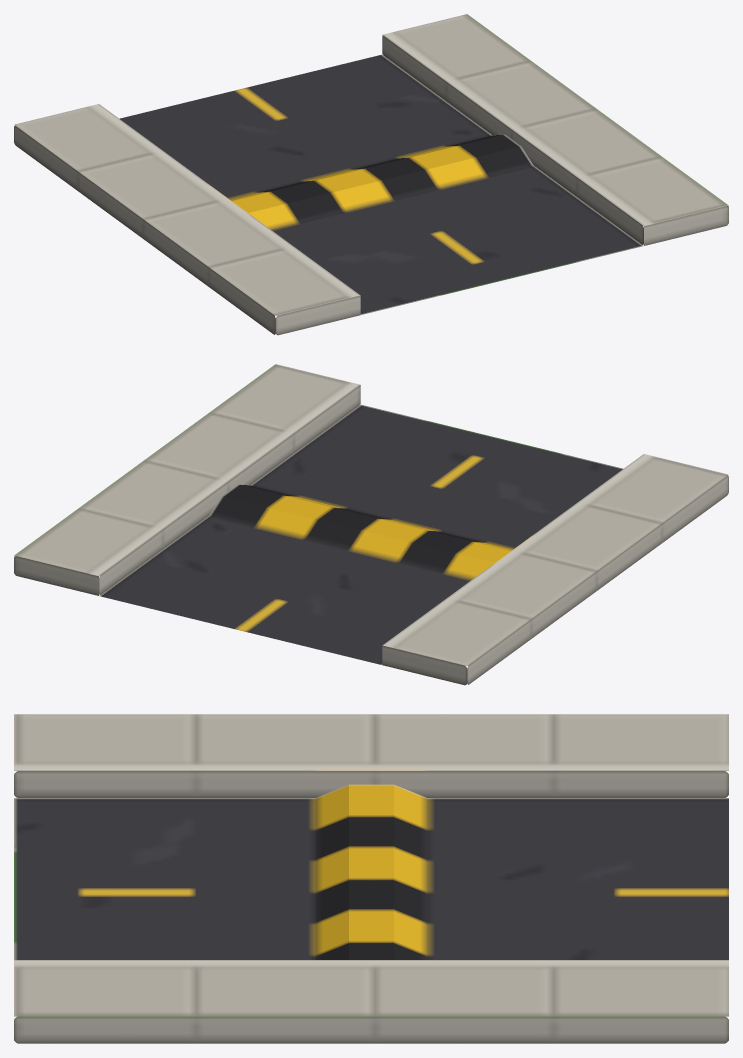
The model's file is Calle_Recta_Tope.fbx.
The picture shows the model from 3 angles, top to bottom: view 1: azimuth 30°, elevation 25°; view 2: azimuth 150°, elevation 25°; view 3: azimuth 270°, elevation 25°; orthographic projection. The views are drawn at different scales.
Visible parts, largest first — view 1: Calle_Recta_Tope; view 2: Calle_Recta_Tope; view 3: Calle_Recta_Tope.
Boxes of the visible parts, x1,y1,x2,y2 form: Calle_Recta_Tope: (14, 14, 728, 335); Calle_Recta_Tope: (14, 364, 728, 685); Calle_Recta_Tope: (14, 714, 728, 1043).
Bounding box in the file's own units: 3 × 0.125 × 3.
1 material, 1 textured.
